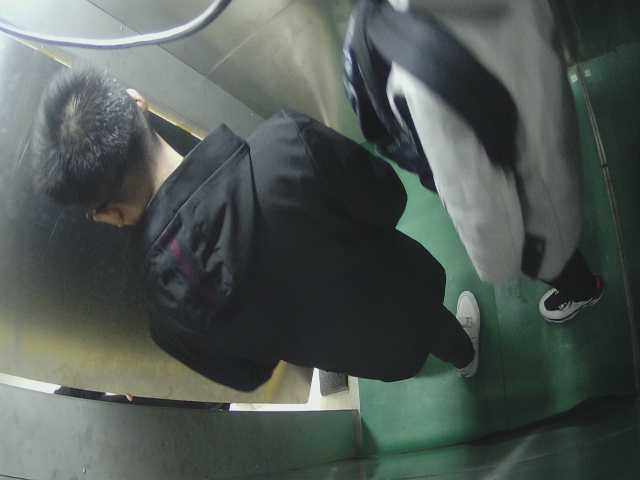bag: (316, 6, 505, 186)
person: (28, 54, 501, 380)
